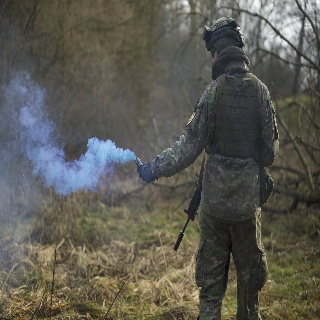rifle: (173, 138, 209, 251)
